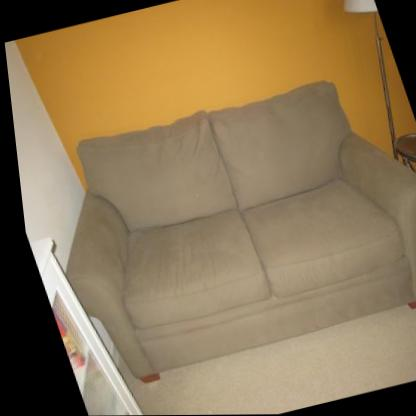Sofa: (12, 61, 416, 394)
